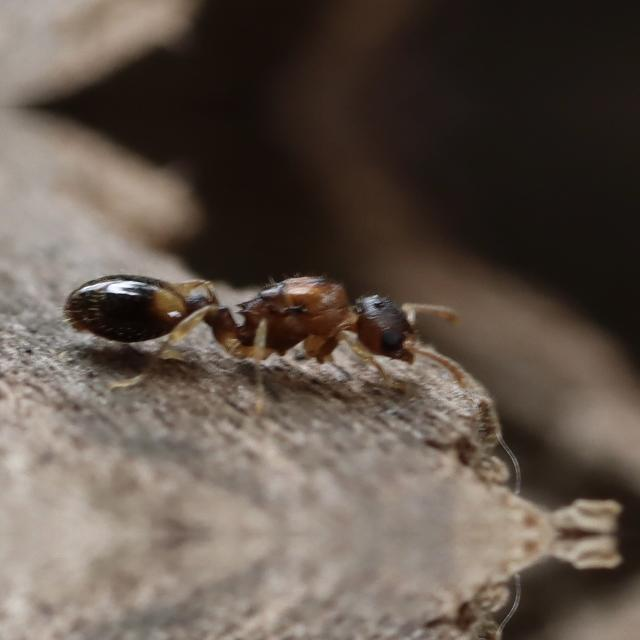Temnothorax: (23, 231, 463, 393)
